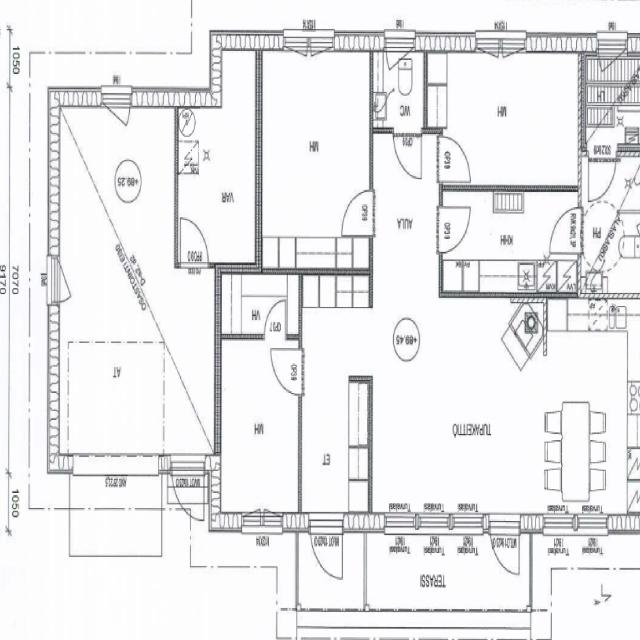door: (310, 514, 343, 586), (172, 455, 204, 526), (489, 514, 518, 580), (438, 206, 471, 253), (438, 136, 471, 182), (270, 349, 302, 395), (394, 128, 422, 180), (588, 149, 616, 201), (550, 208, 582, 252), (181, 218, 208, 269), (342, 191, 373, 235), (264, 300, 286, 340)
